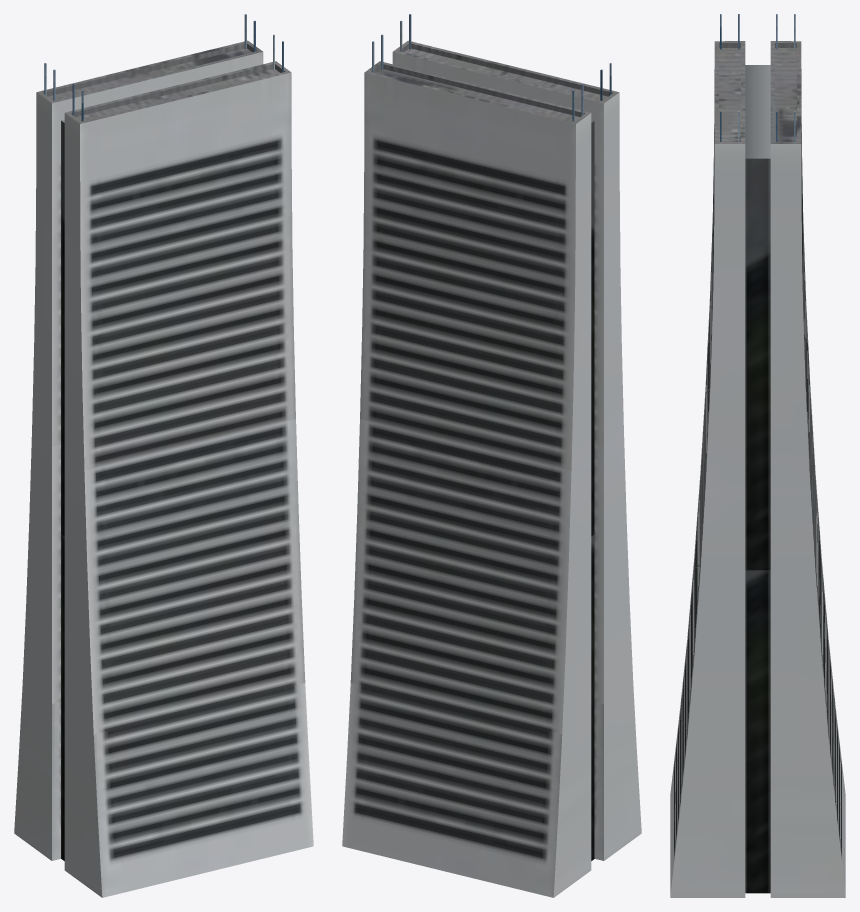
The picture shows the model from 3 angles, left to right: view 1: azimuth 30°, elevation 25°; view 2: azimuth 150°, elevation 25°; view 3: azimuth 270°, elevation 25°; orthographic projection.
Bounding box in the file's own units: 0.4003 × 1.42 × 0.2888.
1 material, 1 textured.
